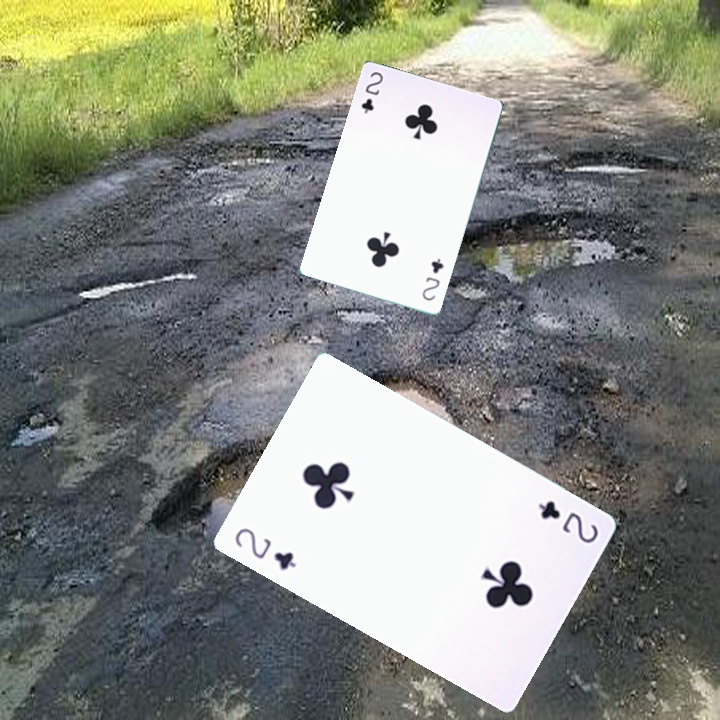2c: (230, 523, 299, 573), (534, 496, 601, 546), (357, 67, 386, 117), (418, 254, 447, 303)
